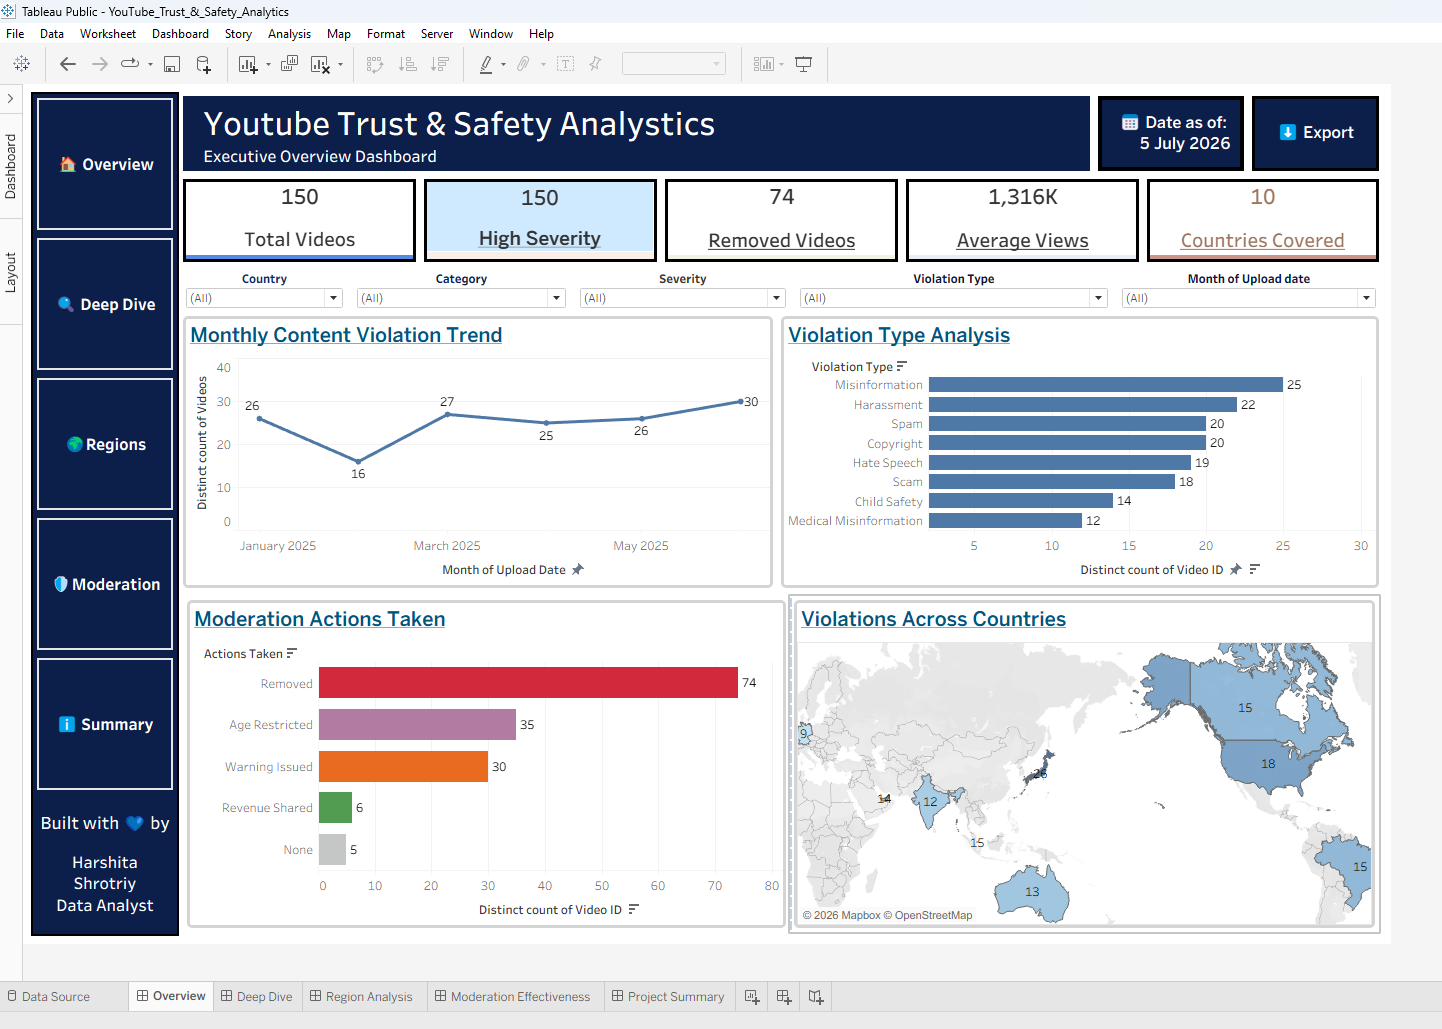

The dashboard page shown, as its layout file describes it:
{"tool":"tableau","page":{"name":"Overview","canvas":[1368,860],"ordinal":4},"visuals":[{"type":"text","box":[143.5,8,927.5,83]},{"type":"text","box":[1071,8,154,83]},{"type":"text","box":[1225,8,135,83]},{"type":"dashboard-object","box":[10,10,132,140]},{"type":"worksheet","title":"KPI - TV","mark":"Automatic","box":[144,91,244,91]},{"type":"worksheet","title":"KPI- HS","mark":"Automatic","box":[388,91,243,91]},{"type":"worksheet","title":"KPI - RV","mark":"Automatic","box":[631,91,243,91]},{"type":"worksheet","title":"KPI - AV","mark":"Automatic","box":[874,91,243,91]},{"type":"worksheet","title":"KPI - countries","mark":"Automatic","box":[1117,91,243,91]},{"type":"dashboard-object","box":[10,150,132,140]},{"type":"filter","title":"Monthly Trend","param":"[federated.00ehc49100lf2u1d2snlt14ci4es].[none:Country:nk]","box":[143.5,181.6,183.5,46.4]},{"type":"filter","title":"Monthly Trend","param":"[federated.00ehc49100lf2u1d2snlt14ci4es].[none:Category:nk]","box":[327,181.6,223,46.4]},{"type":"filter","title":"Monthly Trend","param":"[federated.00ehc49100lf2u1d2snlt14ci4es].[none:Severity:nk]","box":[550,181.6,220,46.4]},{"type":"filter","title":"Monthly Trend","param":"[federated.00ehc49100lf2u1d2snlt14ci4es].[none:Violation_Type:nk]","box":[770,181.6,322,46.4]},{"type":"filter","title":"Monthly Trend","param":"[federated.00ehc49100lf2u1d2snlt14ci4es].[mn:Upload Date (copy)_1500305030254592","box":[1092,181.6,268,46.4]},{"type":"worksheet","title":"Monthly Trend","mark":"Line","rows":["Video_ID"],"cols":["Upload_Date"],"box":[143.5,228,610.5,280]},{"type":"worksheet","title":"Violation Type","mark":"Automatic","rows":["Violation_Type"],"cols":["Video_ID"],"box":[754,228,606,280]},{"type":"dashboard-object","box":[10,290,132,140]},{"type":"dashboard-object","box":[10,430,132,140]},{"type":"worksheet","title":"Moderation Actions","mark":"Automatic","rows":["Action_Taken"],"cols":["Video_ID"],"box":[147.5,512,607,336]},{"type":"worksheet","title":"Country Map","mark":"Automatic","box":[754.5,512,601.5,336]},{"type":"dashboard-object","box":[10,570,132,140]},{"type":"text","box":[10,710,132,140]}]}

Visuals, with their boxes on the page's 1368x860 design canvas (x1, y1, x2, y2). These are canvas units, not pixel positions in the 1442x1029 screenshot, which may show the page scaled, cropped or inside an application window:
text: <region>144, 8, 1071, 91</region>
text: <region>1071, 8, 1225, 91</region>
text: <region>1225, 8, 1360, 91</region>
dashboard-object: <region>10, 10, 142, 150</region>
"KPI - TV" worksheet: <region>144, 91, 388, 182</region>
"KPI- HS" worksheet: <region>388, 91, 631, 182</region>
"KPI - RV" worksheet: <region>631, 91, 874, 182</region>
"KPI - AV" worksheet: <region>874, 91, 1117, 182</region>
"KPI - countries" worksheet: <region>1117, 91, 1360, 182</region>
dashboard-object: <region>10, 150, 142, 290</region>
"Monthly Trend" filter: <region>144, 182, 327, 228</region>
"Monthly Trend" filter: <region>327, 182, 550, 228</region>
"Monthly Trend" filter: <region>550, 182, 770, 228</region>
"Monthly Trend" filter: <region>770, 182, 1092, 228</region>
"Monthly Trend" filter: <region>1092, 182, 1360, 228</region>
"Monthly Trend" worksheet (Line marks): <region>144, 228, 754, 508</region>
"Violation Type" worksheet: <region>754, 228, 1360, 508</region>
dashboard-object: <region>10, 290, 142, 430</region>
dashboard-object: <region>10, 430, 142, 570</region>
"Moderation Actions" worksheet: <region>148, 512, 754, 848</region>
"Country Map" worksheet: <region>754, 512, 1356, 848</region>
dashboard-object: <region>10, 570, 142, 710</region>
text: <region>10, 710, 142, 850</region>
